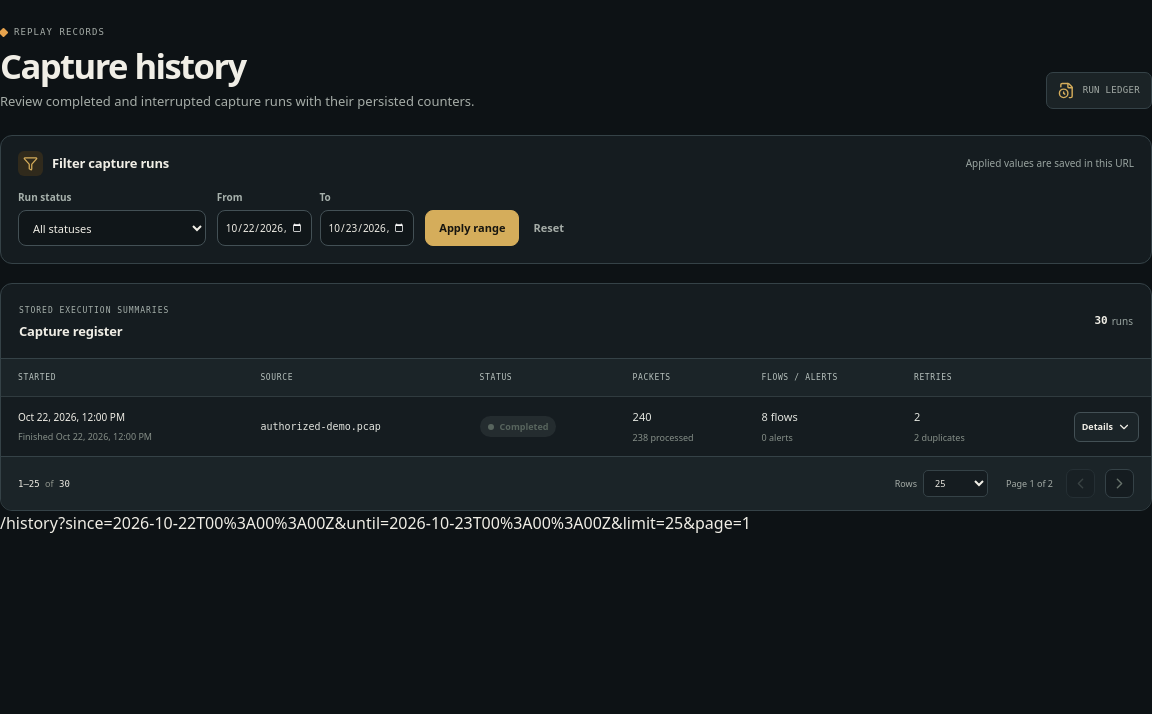
Scenario: overview and capture history dashboard › loads run details and applies the selected history status
Click the button "Details" at coordinates (1106, 427), box [1074,412,1139,442]
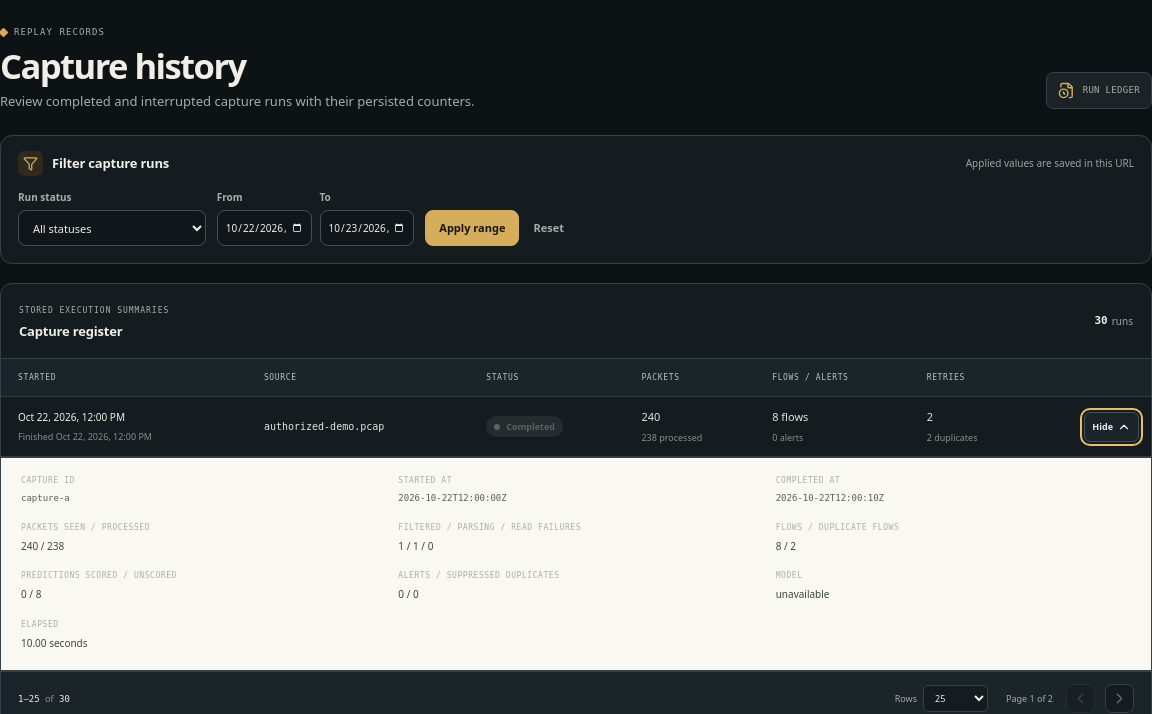
Select "Completed" in the dropdown labelled "Run status" at coordinates (112, 228), box [18,210,206,246]
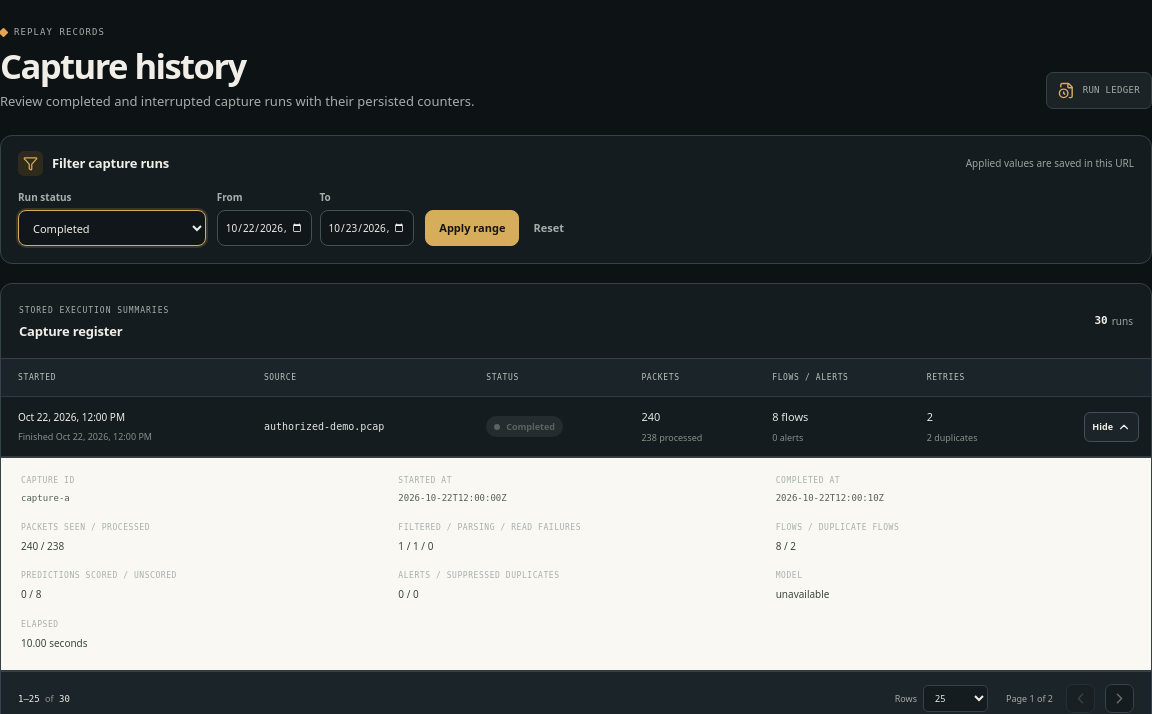
Click the button "Apply range" at coordinates (472, 228), box [425,210,519,246]
(page scrolled)
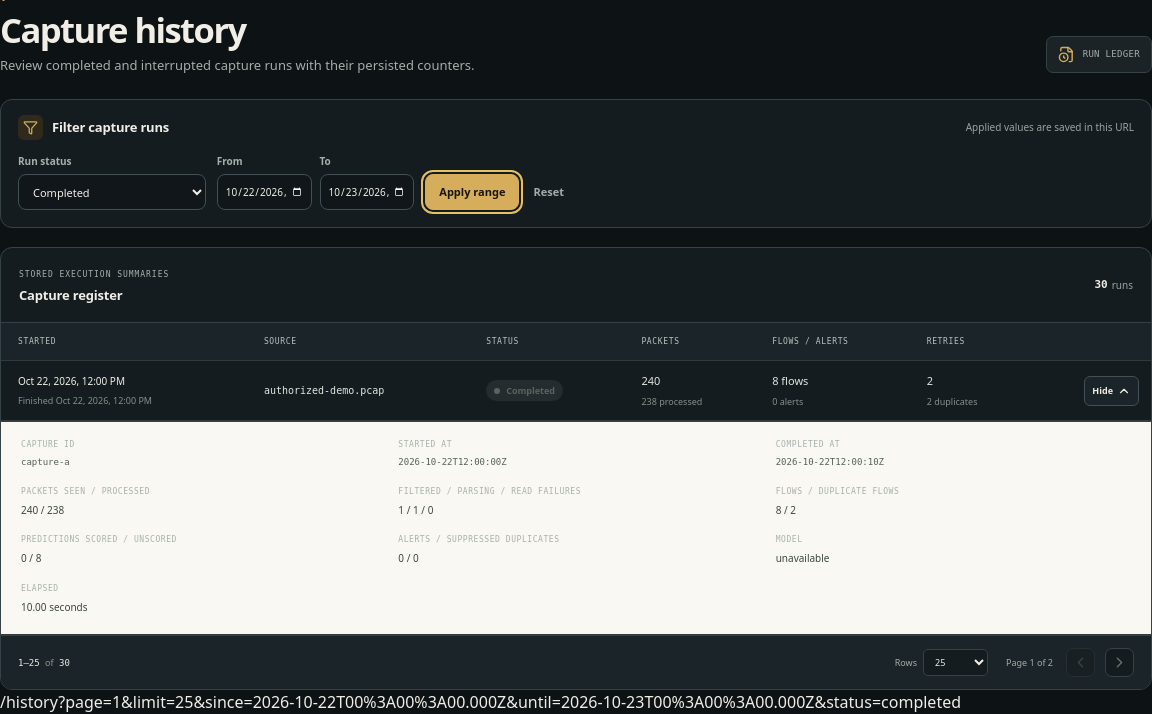
Check: the text named "Current URL" shows "status=completed", box [58,691,961,713]
